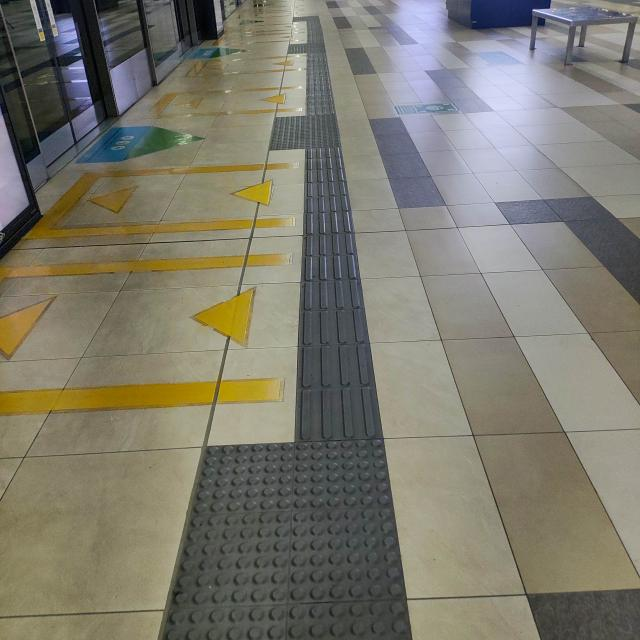lurus: (285, 20, 388, 640)
